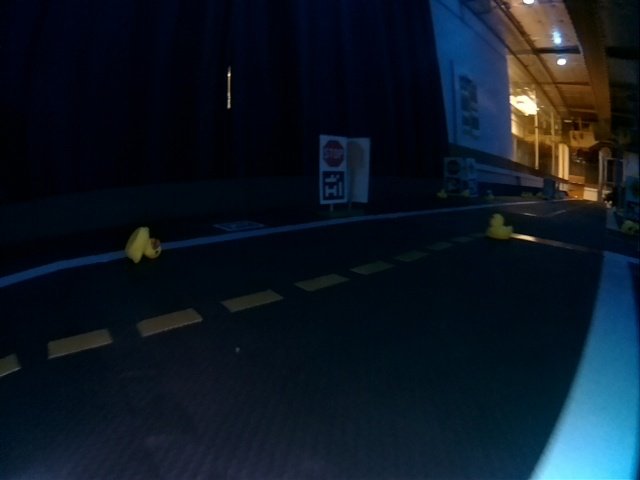Duckie: (124, 227, 161, 259), (489, 213, 513, 239), (622, 220, 637, 234), (438, 189, 447, 198), (462, 189, 469, 199), (486, 192, 494, 199)
QR code: (322, 171, 345, 201), (214, 220, 262, 230)
Stop sign: (322, 139, 344, 167)
